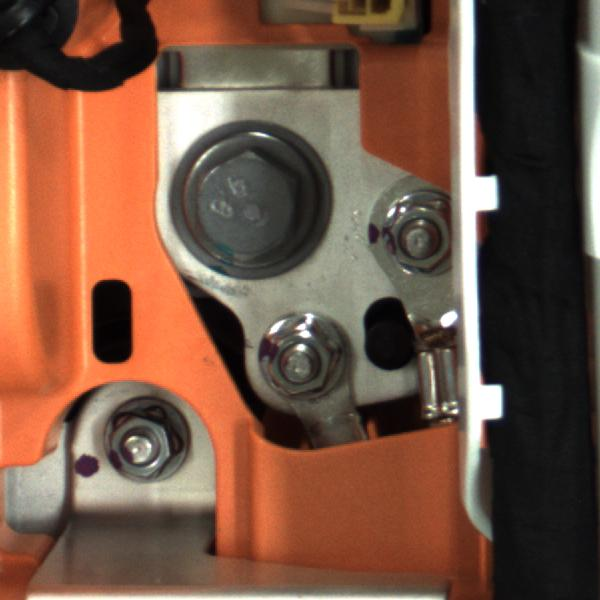nut_b: (159, 124, 328, 269)
screw_s: (250, 310, 359, 411), (98, 403, 197, 483), (379, 188, 447, 288)
